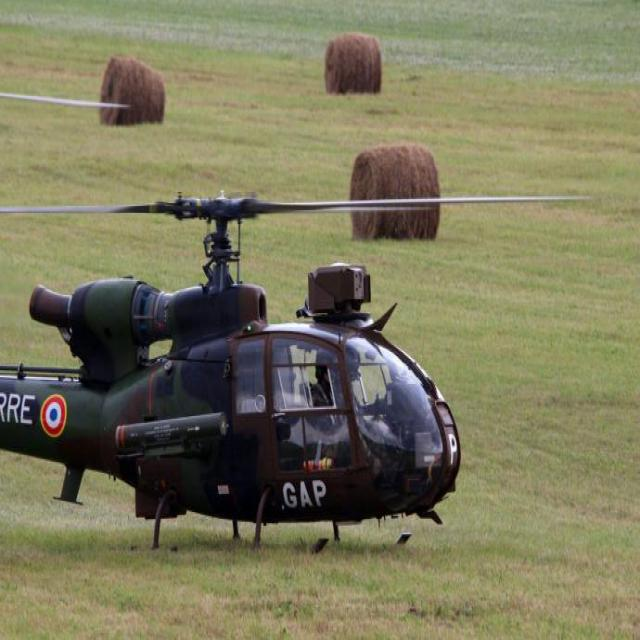MIL_HELO: (0, 164, 601, 562)
